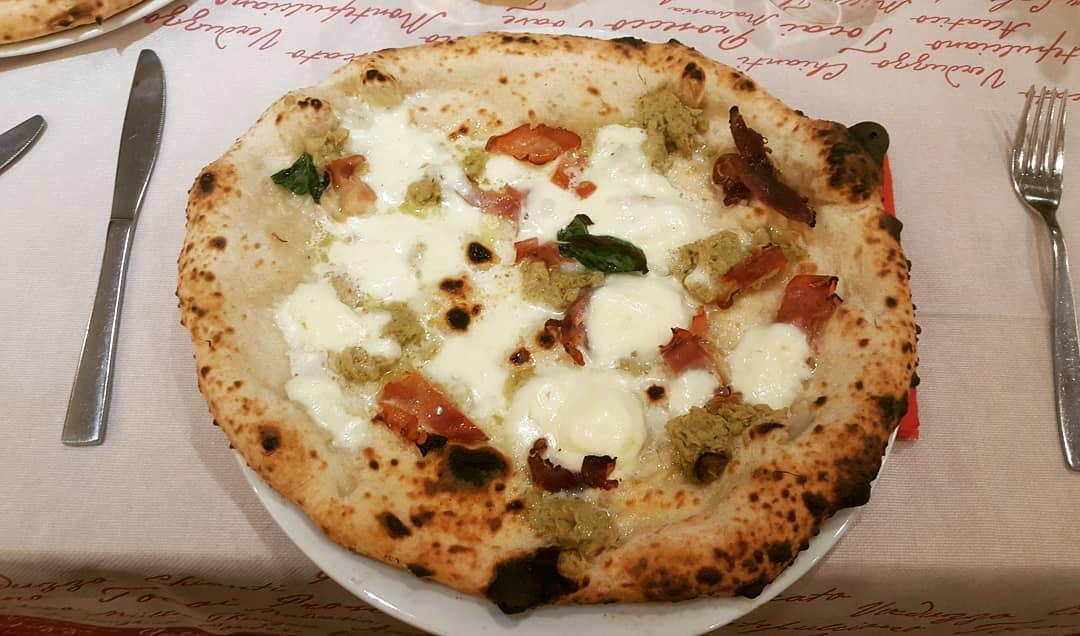Bacon: (379, 373, 487, 452), (665, 325, 732, 411), (716, 244, 785, 310), (488, 118, 584, 160), (776, 272, 844, 326), (545, 288, 588, 360)
Basil: (555, 218, 645, 273), (273, 154, 328, 201)
Cheese: (526, 165, 697, 237), (528, 371, 636, 457), (440, 297, 522, 398), (588, 286, 688, 353), (354, 222, 452, 289), (363, 123, 451, 193), (733, 328, 806, 402), (293, 291, 378, 354)
Pizza: (177, 35, 917, 605)
